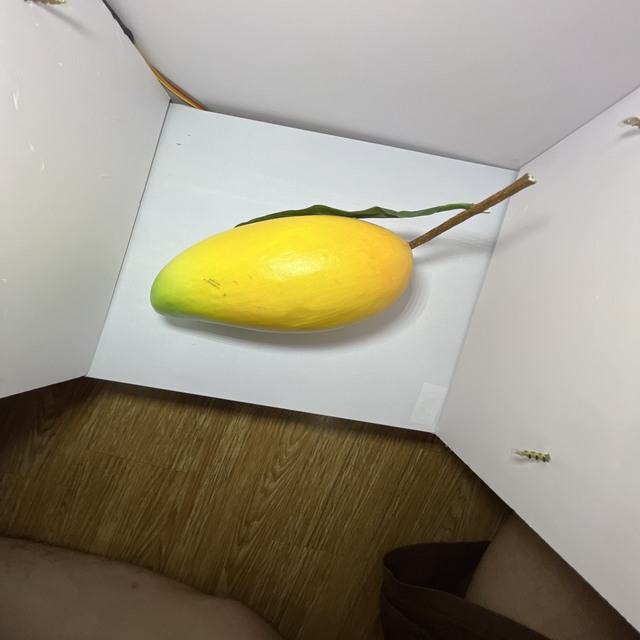Xoai: (146, 210, 419, 341)
